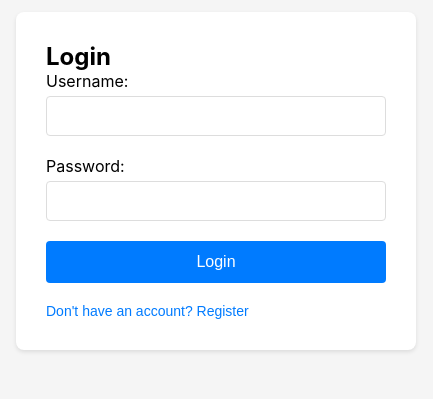
Test case: LoginPage › handles successful registration
Click the button "Don't have an account? Register" at (147, 311), box [46,303,249,319]
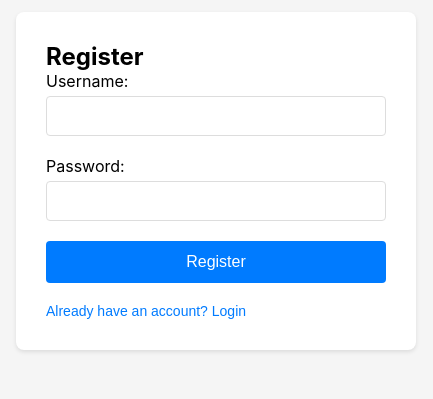
Type "newuser" into the field labelled "Username:" at (216, 116), box [46,96,386,136]
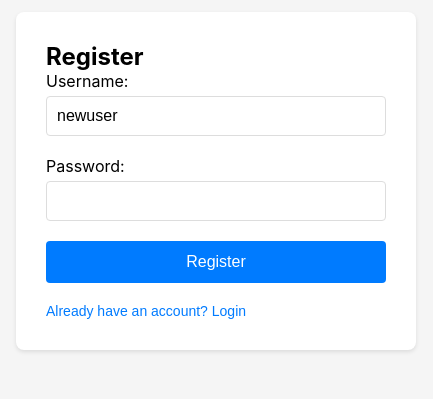
Type "password" into the password field labelled "Password:" at (216, 201), box [46,181,386,221]
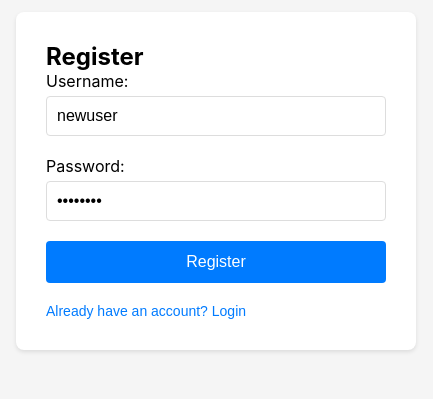
Click the button "Register" at (216, 262), box [46,241,386,283]
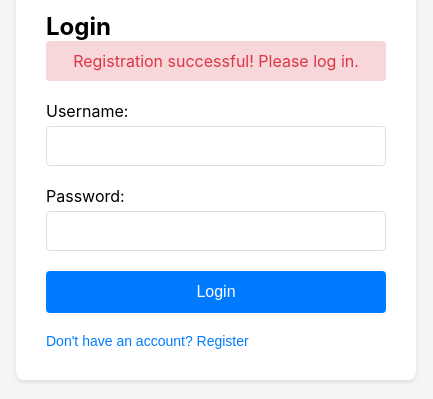
expect the text "Registration successful! Please log in." is shown: met, box [46,41,386,81]
